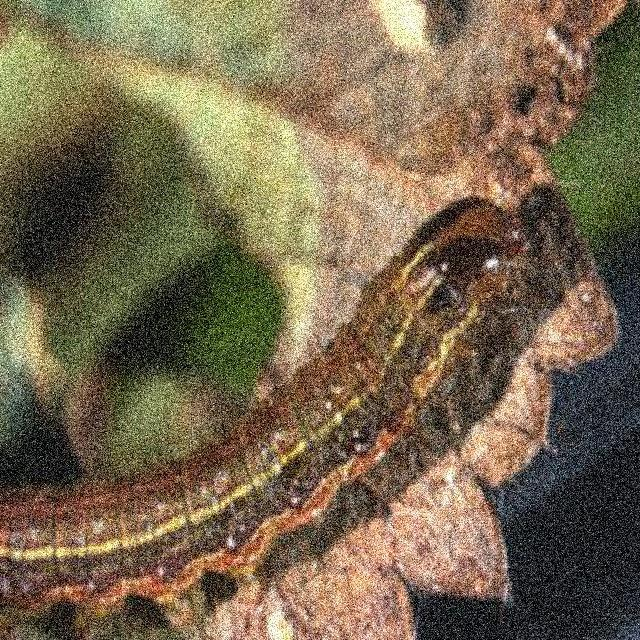worm: (2, 181, 620, 623)
